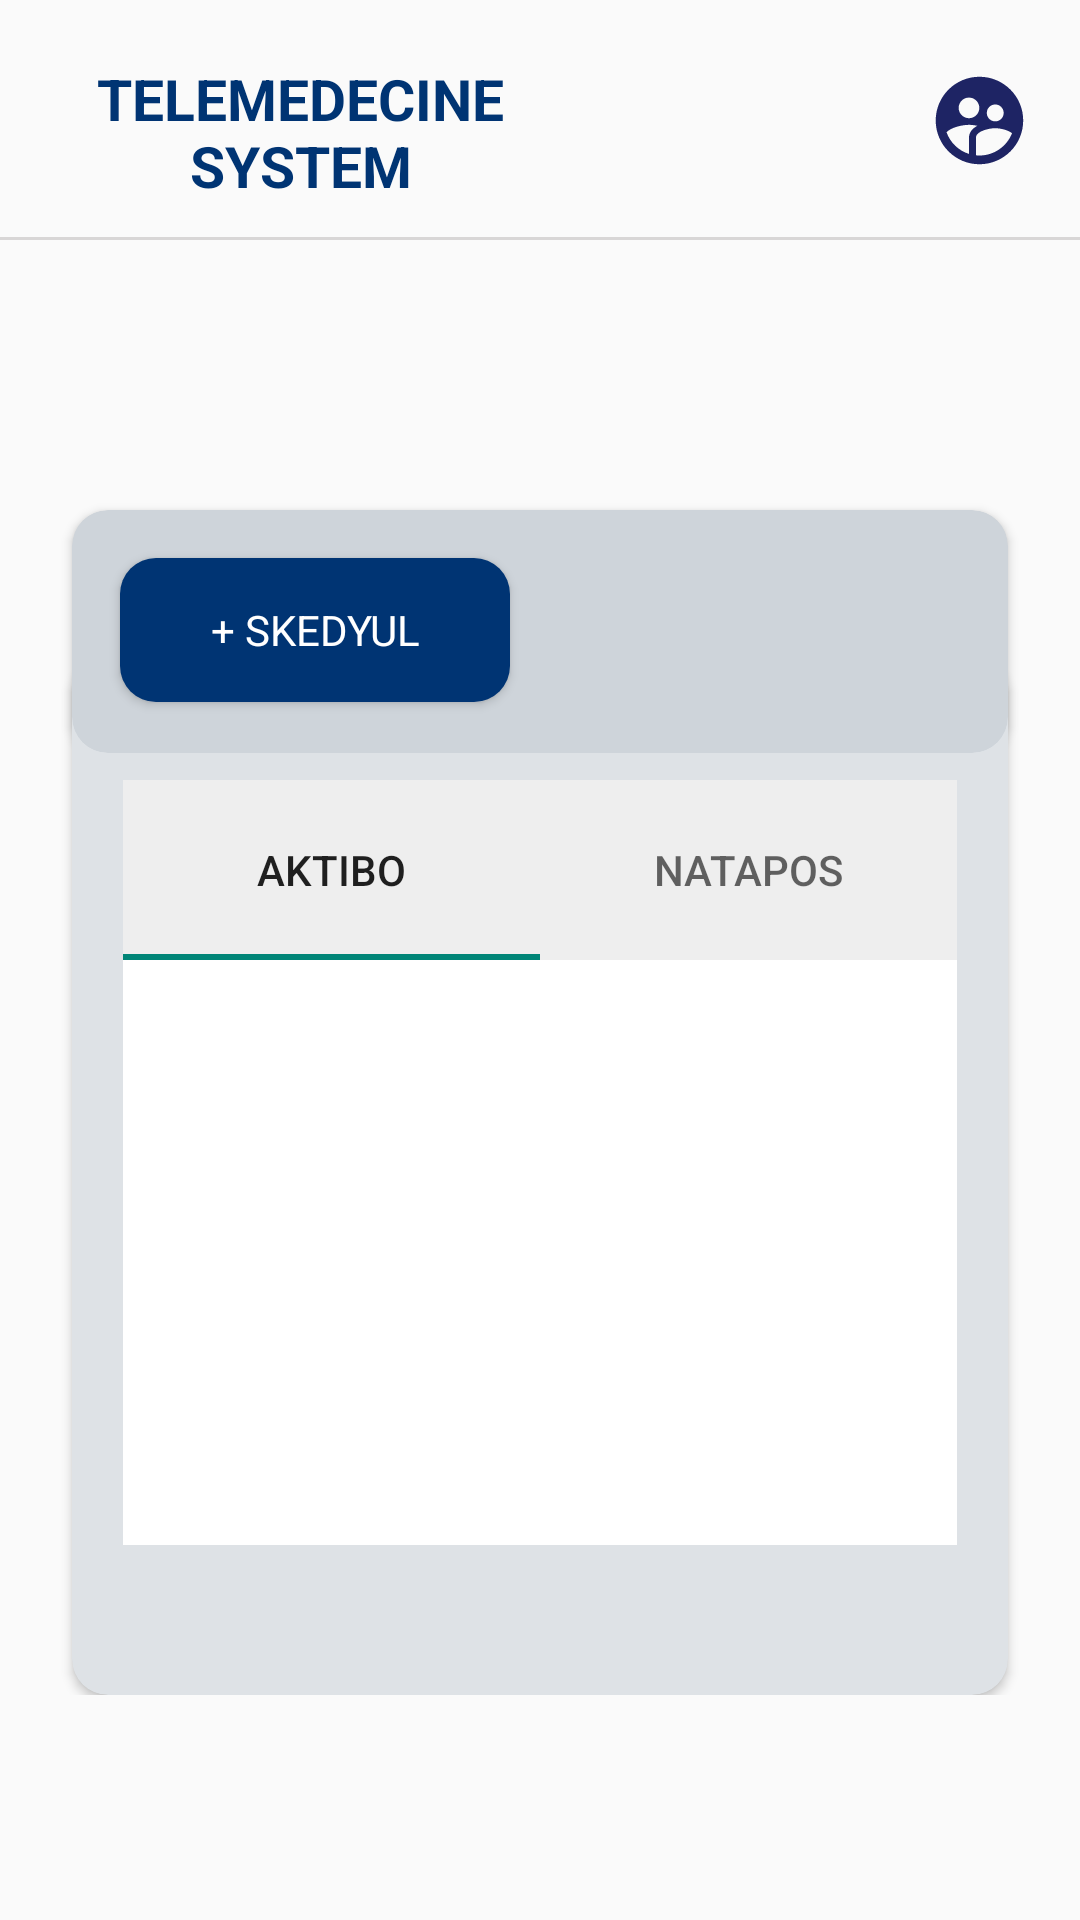

Named icons in this screenshot (1080px×1920px) and their centers, (x,y):
supervised user circle: (979,120)
